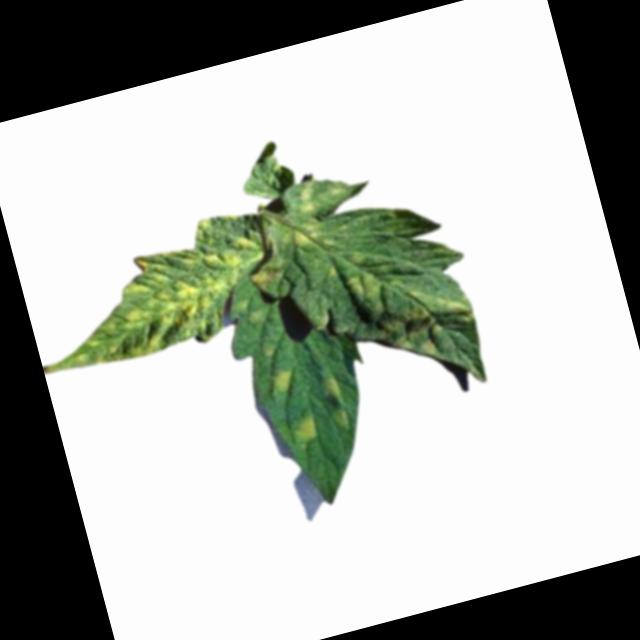Leaf_Mold: (27, 205, 282, 378), (364, 276, 480, 371), (275, 174, 331, 250), (338, 247, 382, 306), (316, 370, 355, 435), (268, 366, 301, 403), (291, 413, 318, 446)
